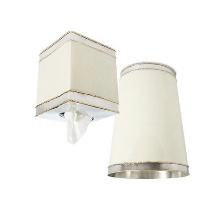tissue: (57, 106, 97, 151)
